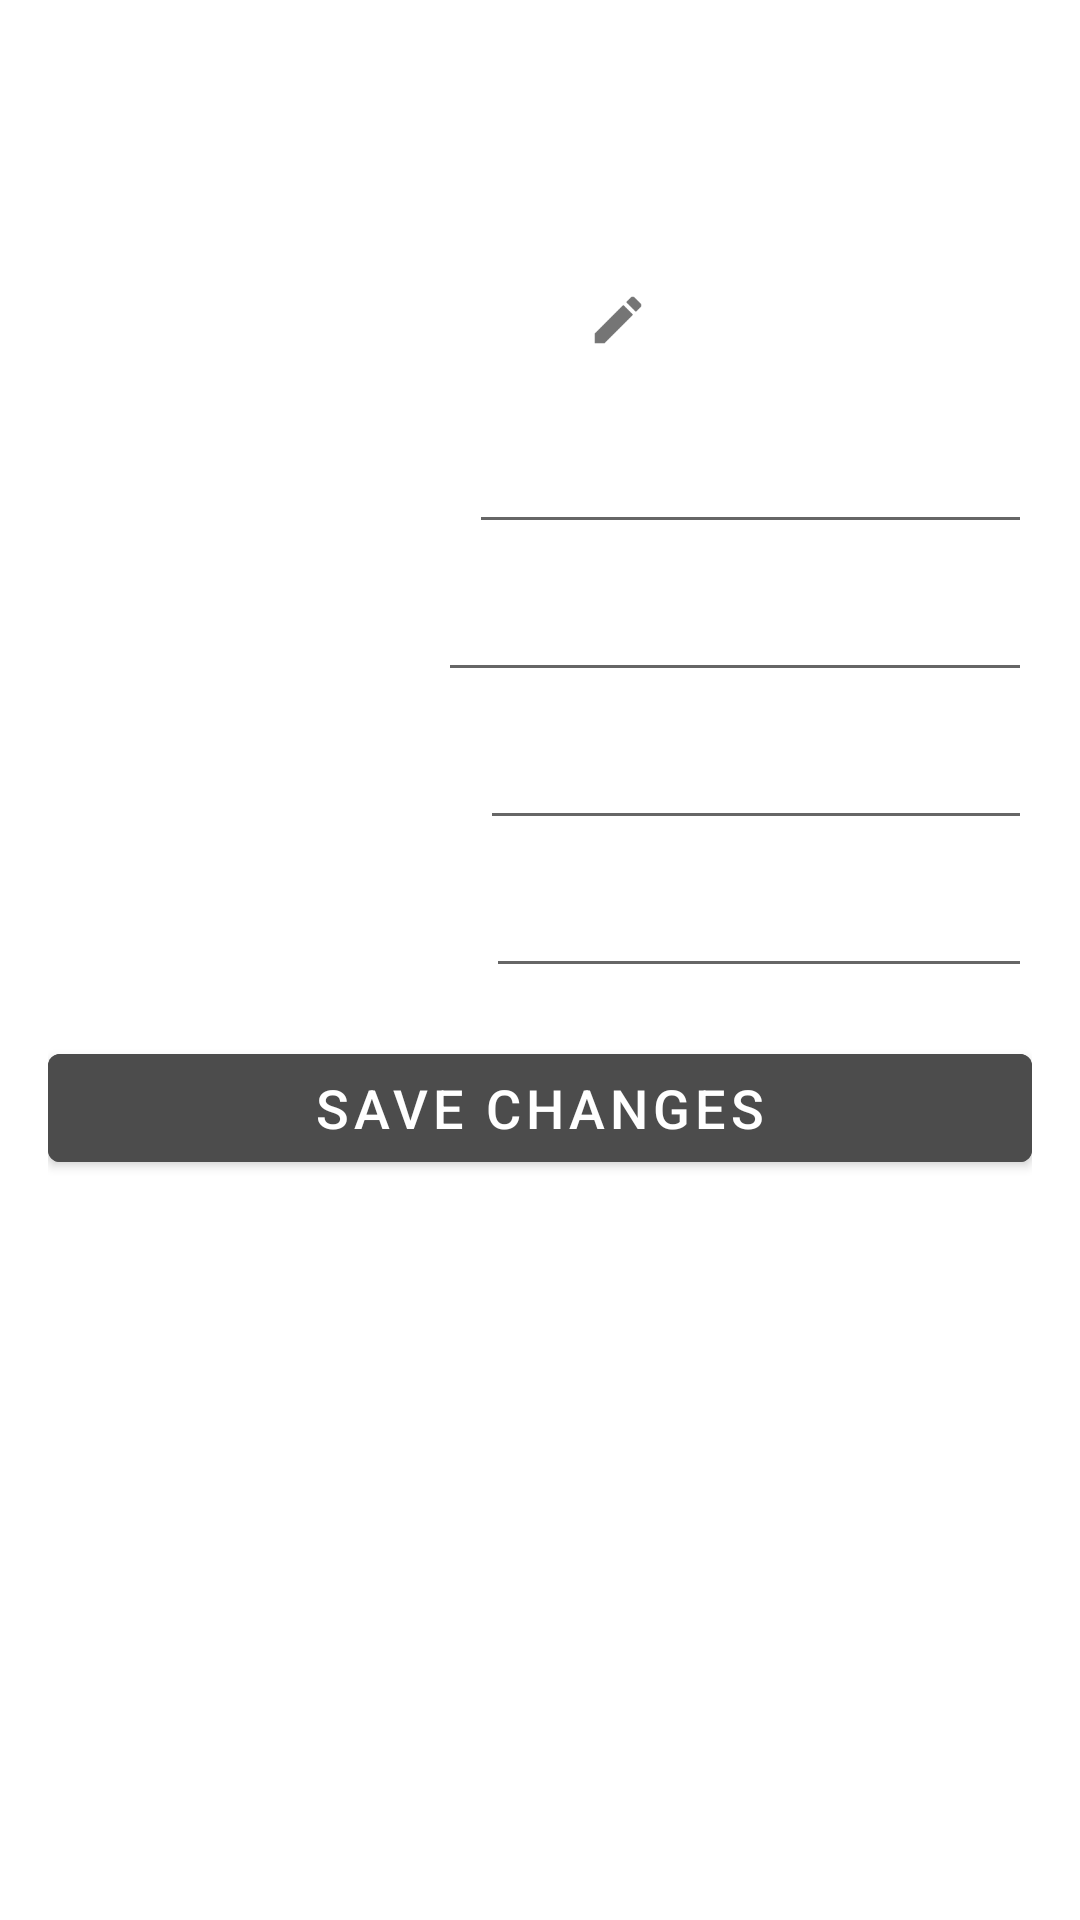

Icons on this 1080 × 1920 Android screen, each with its box as box=[x1, y1, x2, y2]:
edit: box=[594, 296, 642, 344]
